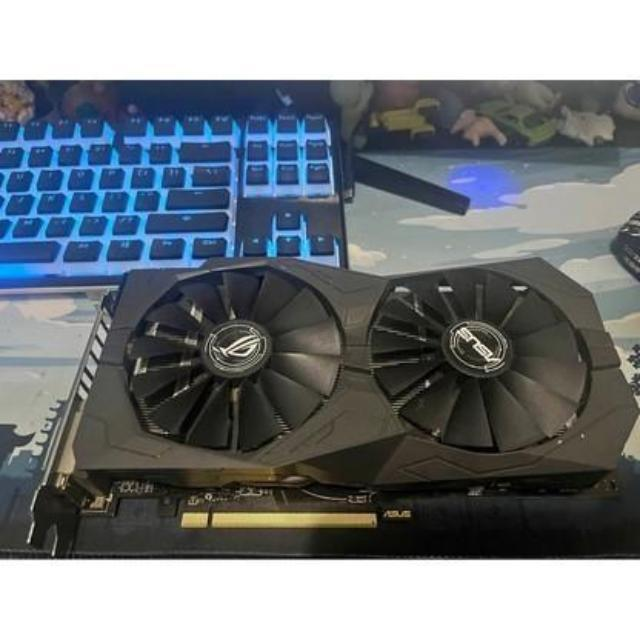GPU: (48, 244, 638, 536)
